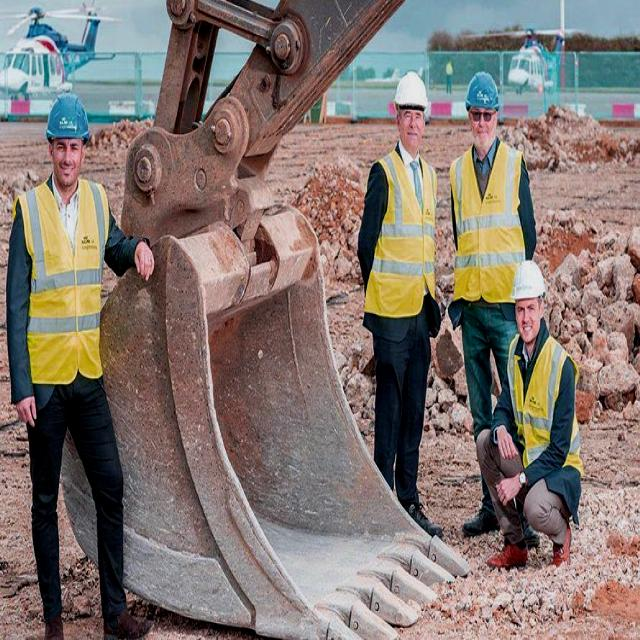face_nomask: (47, 139, 87, 193), (511, 294, 539, 346), (467, 106, 495, 152), (397, 107, 421, 157)
glasses: (467, 105, 497, 126)
hand_noglove: (484, 427, 524, 465), (134, 239, 159, 294), (495, 471, 521, 523), (15, 385, 44, 431)
head_helmet: (44, 90, 90, 142), (464, 69, 500, 113), (392, 70, 428, 112), (513, 261, 546, 298)
person: (10, 77, 150, 622), (361, 71, 443, 534), (474, 257, 579, 564), (451, 74, 534, 422), (444, 58, 454, 97)
shoes: (100, 601, 152, 640), (483, 536, 532, 577), (460, 497, 504, 539)
vest: (11, 173, 108, 384), (365, 148, 437, 312), (451, 145, 525, 302), (508, 332, 584, 475)
